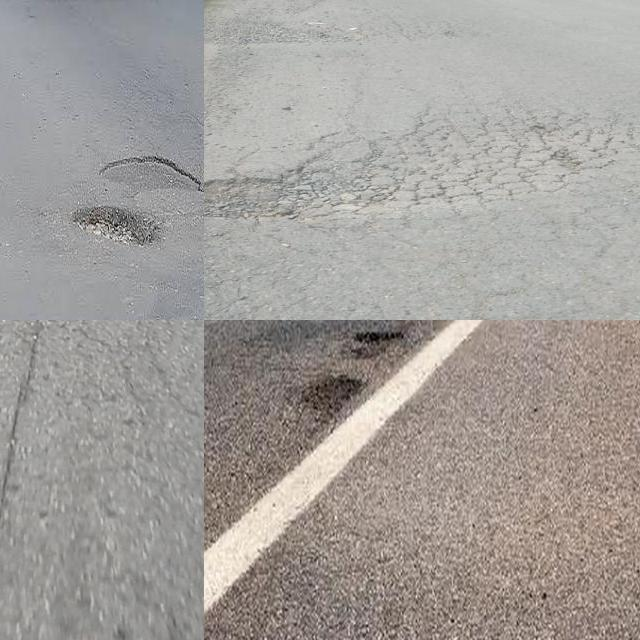Lubang: (76, 198, 162, 248), (102, 158, 199, 199), (310, 374, 356, 408), (351, 330, 398, 360)
Retak Buaya: (214, 97, 640, 228)
